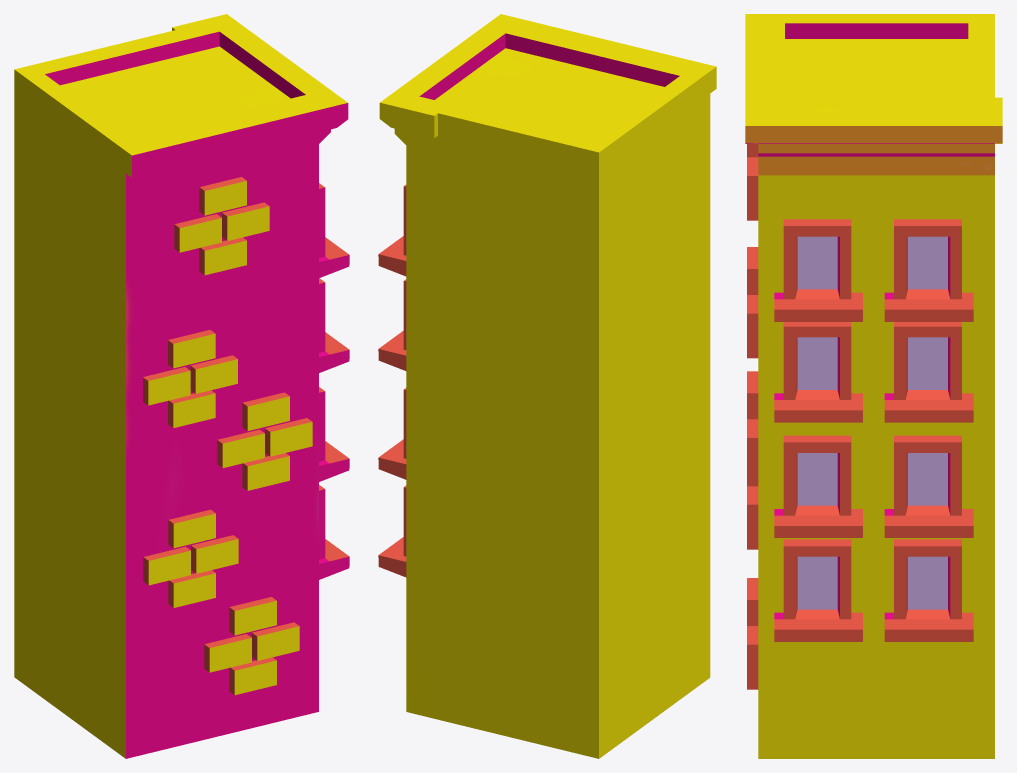
Rendered from SINGLE BUILDING3.fbx.
3 renders of one model, left to right at view 1: azimuth 30°, elevation 25°; view 2: azimuth 150°, elevation 25°; view 3: azimuth 270°, elevation 25°, orthographic. The views are drawn at different scales.
Visible parts, largest first — view 1: Cube.025, Cube.005, Cube.006, Cube.009, Cube.002, Cube.007, Cube.010, Cube.014, Cube.015, Cube.031, Cube.044, Cube.045 (+13 smaller); view 2: Cube.025, Cube.053, Cube.047, Cube.049, Cube.051; view 3: Cube.025, Cube.026, Cube.052, Cube.050, Cube.047, Cube.053, Cube.051, Cube.048, Cube.049, Cube.005, Cube.001, Cube.013 (+5 smaller).
Boxes of the visible parts, left/top/right/bottom form: Cube.025: left=14, top=14, right=348, bottom=758; Cube.005: left=242, top=392, right=289, bottom=430; Cube.006: left=217, top=429, right=264, bottom=468; Cube.009: left=168, top=509, right=215, bottom=548; Cube.002: left=143, top=367, right=190, bottom=405; Cube.007: left=265, top=418, right=312, bottom=456; Cube.010: left=143, top=546, right=190, bottom=585; Cube.014: left=204, top=634, right=251, bottom=672; Cube.015: left=252, top=622, right=299, bottom=660; Cube.031: left=199, top=177, right=246, bottom=215; Cube.044: left=174, top=214, right=221, bottom=252; Cube.045: left=222, top=202, right=269, bottom=240; Cube.025: left=379, top=14, right=716, bottom=758; Cube.053: left=378, top=485, right=406, bottom=577; Cube.047: left=378, top=185, right=406, bottom=276; Cube.049: left=378, top=279, right=406, bottom=370; Cube.051: left=378, top=388, right=406, bottom=479; Cube.025: left=745, top=14, right=1002, bottom=758; Cube.026: left=774, top=219, right=862, bottom=321; Cube.052: left=774, top=539, right=862, bottom=641; Cube.050: left=774, top=435, right=862, bottom=537; Cube.047: left=884, top=219, right=973, bottom=321; Cube.053: left=884, top=539, right=973, bottom=641; Cube.051: left=884, top=435, right=973, bottom=537; Cube.048: left=774, top=322, right=862, bottom=422; Cube.049: left=884, top=322, right=973, bottom=422; Cube.005: left=747, top=371, right=758, bottom=419; Cube.001: left=747, top=247, right=758, bottom=294; Cube.013: left=747, top=578, right=758, bottom=625.
Size of the model in its own units: 239 by 601 by 218.
Materials: 1 (1 with a texture image).
